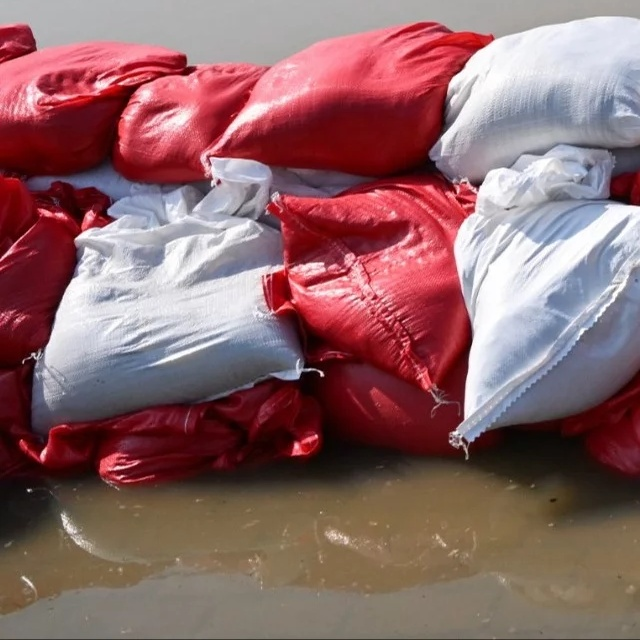sandbag: (31, 161, 303, 432), (451, 133, 640, 447), (201, 23, 493, 177), (271, 173, 469, 389), (430, 18, 640, 182), (0, 42, 187, 170), (114, 63, 266, 180), (321, 364, 460, 454), (0, 212, 79, 367)
